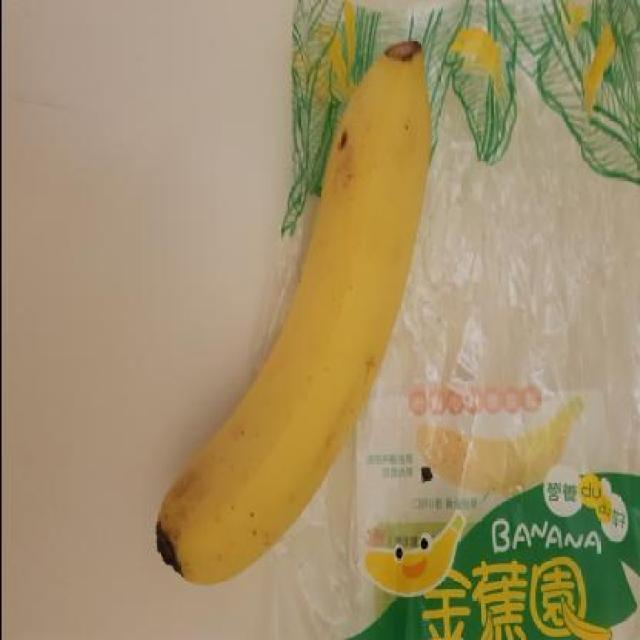banana: (144, 25, 446, 598)
